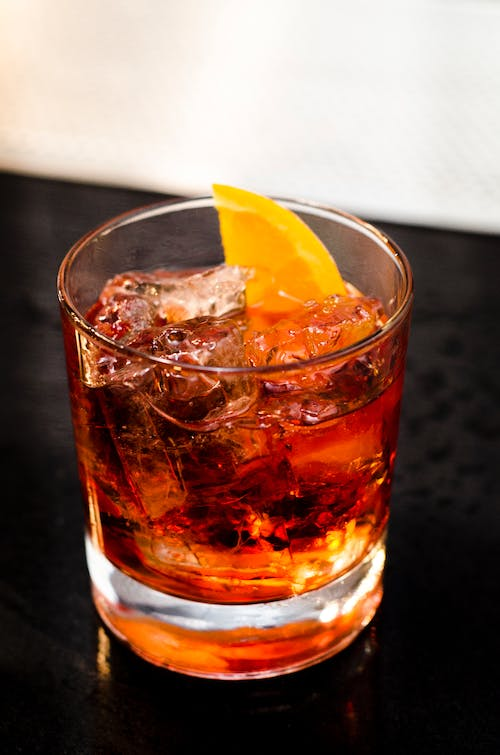alcohol: (55, 192, 415, 680)
